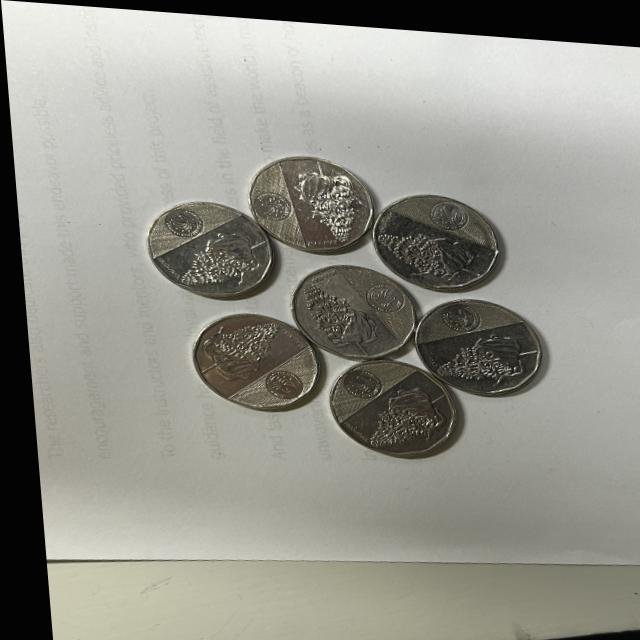10_New_Back: (157, 222, 279, 293), (362, 363, 454, 452), (192, 316, 302, 387), (280, 160, 367, 243), (288, 283, 390, 341), (381, 227, 473, 283), (433, 336, 535, 373)
